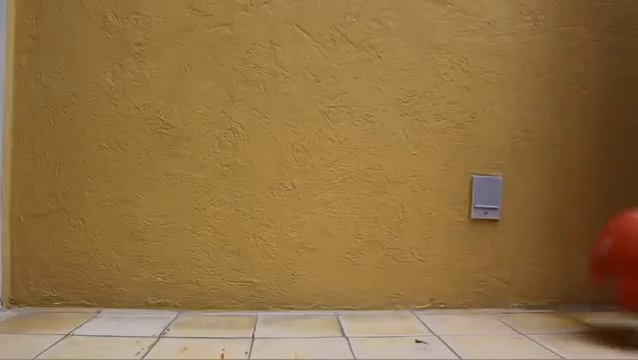ball: (586, 209, 638, 319)
